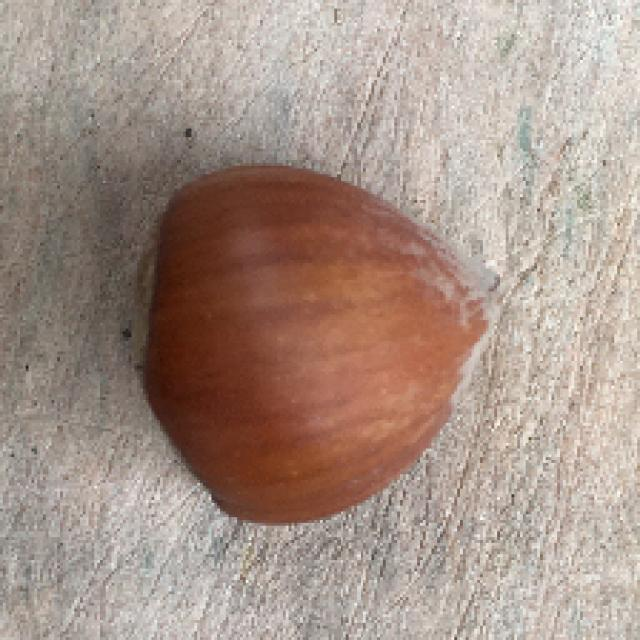qualityHazelnut: (133, 162, 506, 528)
